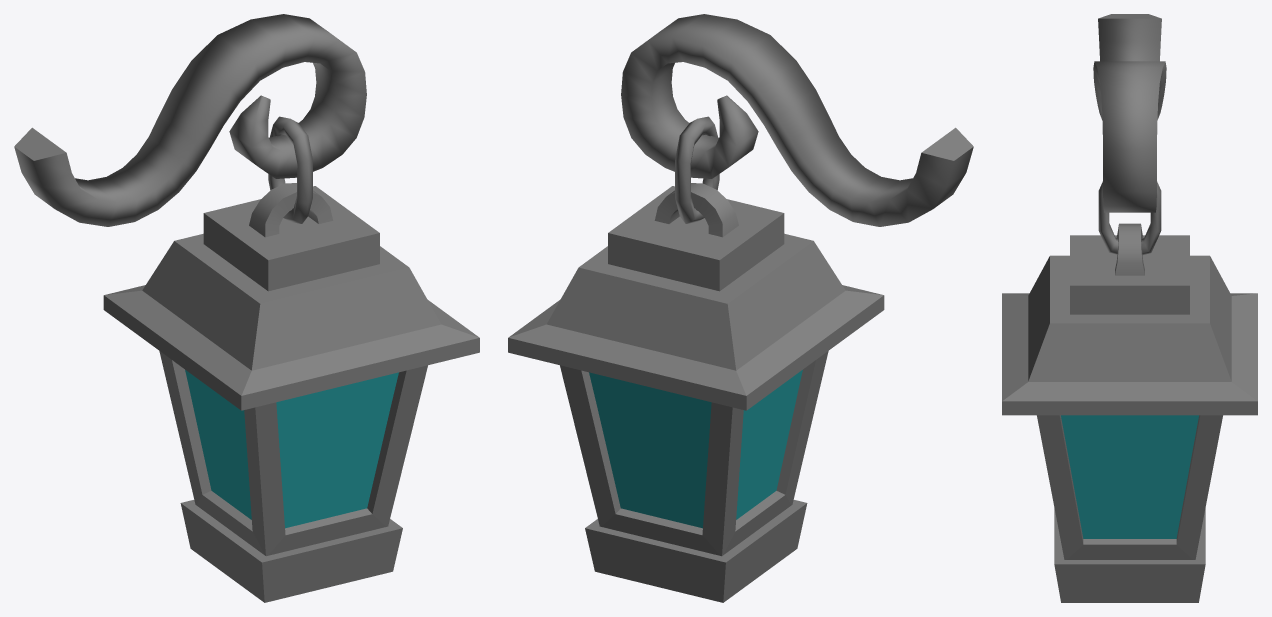
Rendered from SM_walllamp_02.fbx.
3 views of the same model, side by side, from view 1: azimuth 30°, elevation 25°; view 2: azimuth 150°, elevation 25°; view 3: azimuth 270°, elevation 25° (orthographic). The views are drawn at different scales.
Parts seen in each view (by area): view 1: Line009; view 2: Line009; view 3: Line009.
Part boxes in pixels (x1=…): Line009: x1=14, y1=14, x2=479, y2=602; Line009: x1=508, y1=14, x2=973, y2=602; Line009: x1=1002, y1=14, x2=1257, y2=602.
Size of the model in its own units: 28.65 by 37.73 by 17.65.
